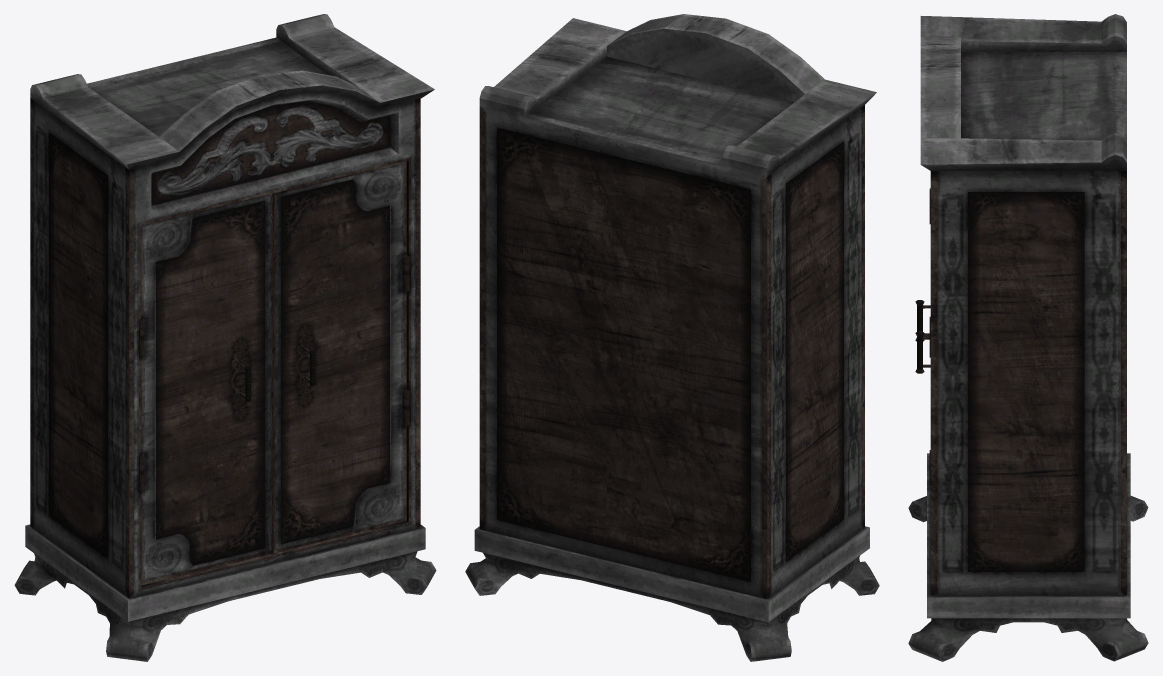
The model's file is cabinet_white.dae.
The picture shows the model from 3 angles, left to right: view 1: azimuth 30°, elevation 25°; view 2: azimuth 150°, elevation 25°; view 3: azimuth 270°, elevation 25°; orthographic projection.
Parts seen in each view (by area): view 1: polySurface38, polySurface36, polySurface37; view 2: polySurface38; view 3: polySurface38.
Boxes of the visible parts, x1,y1,x2,y2 form: polySurface38: (14,14,436,661); polySurface36: (273,161,406,553); polySurface37: (141,193,272,585); polySurface38: (465,14,879,661); polySurface38: (908,14,1148,661).
Size of the model in its own units: 1.93 by 2.98 by 1.22.
